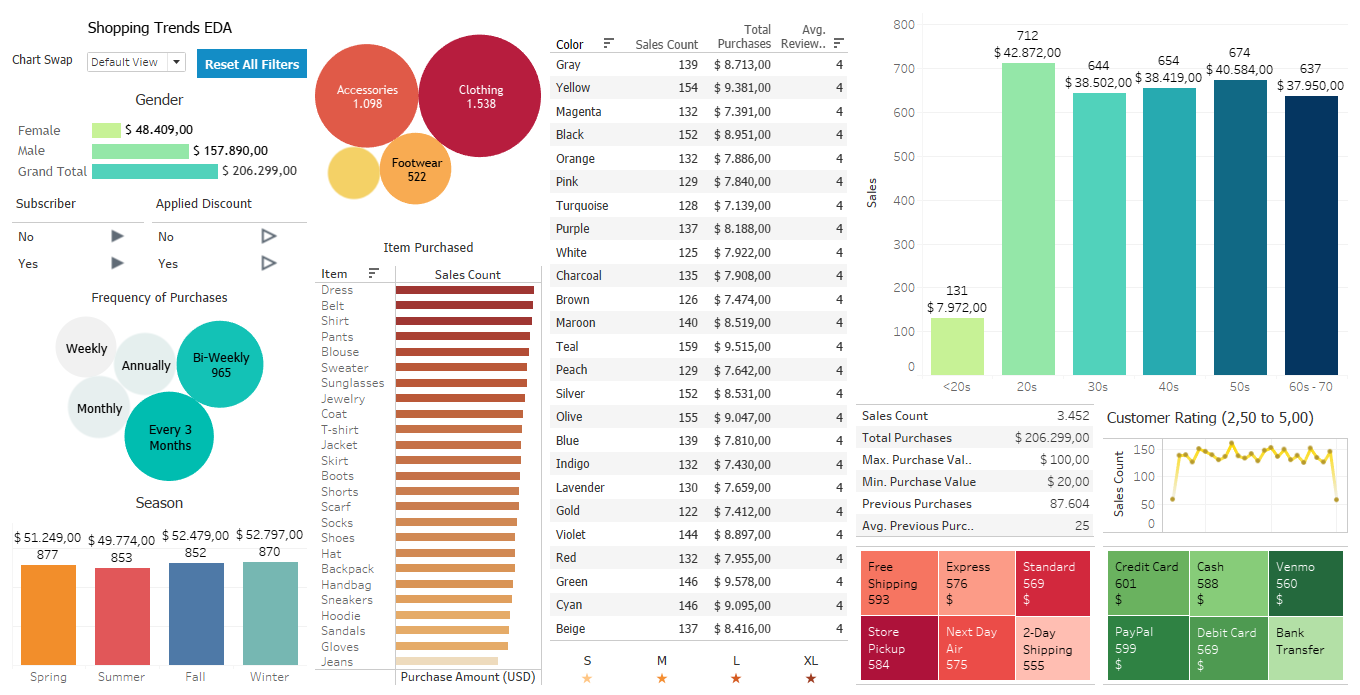

The dashboard page shown, as its layout file describes it:
{"tool":"tableau","page":{"name":"Painel 1","canvas":[1000,1000],"units":"permille","ordinal":0},"visuals":[{"type":"worksheet","title":"Reset (2)","mark":"Automatic","box":[6,13.5,222.7,52.5]},{"type":"worksheet","title":"Chart 1 (4)","mark":"Circle","box":[228.7,13.5,172.7,318.4]},{"type":"worksheet","title":"Chart 1 (15)","mark":"Automatic","rows":["Color"],"box":[401.4,13.5,225.1,904.3]},{"type":"worksheet","title":"Sheet 9","mark":"Multipolygon","cols":["Color (copy)_461337521497296899"],"box":[626.5,13.5,367.5,1.7]},{"type":"worksheet","title":"Chart 1 (2)","mark":"Automatic","rows":["Customer ID"],"cols":["Age_Clusters"],"box":[626.5,15.2,367.5,558.1]},{"type":"parameter","param":"[Parameters].[Parameter 1]","box":[6,66,135.9,53.5]},{"type":"worksheet","title":"Reset","mark":"Automatic","box":[141.9,66,86.8,53.5]},{"type":"worksheet","title":"Chart 1 (10)","mark":"Automatic","rows":["Color (copy)_461337521497296899","Gender"],"cols":["Customer ID"],"box":[6,119.5,222.7,148.9]},{"type":"worksheet","title":"Chart 1 (9)","mark":"Shape","rows":["Subscription Status"],"box":[6,268.4,102.7,135.2]},{"type":"worksheet","title":"Chart 1 (12)","mark":"Shape","rows":["Discount Applied"],"box":[108.7,268.4,120,135.2]},{"type":"worksheet","title":"Chart 1 (5)","mark":"Circle","rows":["Color (copy)_461337521497296899","Item Purchased"],"cols":["Purchase Amount (USD)","Customer ID"],"box":[228.7,331.9,172.7,654.6]},{"type":"worksheet","title":"Chart 1 (1)","mark":"Circle","box":[6,403.6,222.7,344.6]},{"type":"worksheet","title":"Chart 1 (17)","mark":"Automatic","box":[626.5,573.3,181.7,201.5]},{"type":"worksheet","title":"Chart 1 (19)","mark":"Automatic","rows":["Customer ID","Customer ID"],"cols":["Color (copy)_461337521497296899","Review Rating"],"box":[808.1,573.3,185.9,201.5]},{"type":"worksheet","title":"Chart 1 (3)","mark":"Automatic","rows":["Purchase Amount (USD)"],"cols":["Season"],"box":[6,748.2,222.7,238.3]},{"type":"worksheet","title":"Chart 1 (18)","mark":"Automatic","cols":["Color (copy)_461337521497296899"],"box":[626.5,774.9,181.7,211.6]},{"type":"worksheet","title":"Chart 1 (16)","mark":"Automatic","cols":["Color (copy)_461337521497296899"],"box":[808.1,774.9,185.9,211.6]},{"type":"worksheet","title":"Size","mark":"Shape","cols":["Size"],"box":[401.4,917.8,225.1,68.6]}]}

Visuals, with their boxes on the dashboard's canvas, which has no fixed pixel size, in thousandths of its width and height (x1, y1, x2, y2). These are canvas units, not pixel positions in the 1360x695 screenshot, which may show the page scaled, cropped or inside an application window:
"Reset (2)" worksheet: locate(6, 14, 229, 66)
"Chart 1 (4)" worksheet (Circle marks): locate(229, 14, 401, 332)
"Chart 1 (15)" worksheet: locate(401, 14, 626, 918)
"Sheet 9" worksheet (Multipolygon marks): locate(626, 14, 994, 15)
"Chart 1 (2)" worksheet: locate(626, 15, 994, 573)
parameter: locate(6, 66, 142, 120)
"Reset" worksheet: locate(142, 66, 229, 120)
"Chart 1 (10)" worksheet: locate(6, 120, 229, 268)
"Chart 1 (9)" worksheet (Shape marks): locate(6, 268, 109, 404)
"Chart 1 (12)" worksheet (Shape marks): locate(109, 268, 229, 404)
"Chart 1 (5)" worksheet (Circle marks): locate(229, 332, 401, 986)
"Chart 1 (1)" worksheet (Circle marks): locate(6, 404, 229, 748)
"Chart 1 (17)" worksheet: locate(626, 573, 808, 775)
"Chart 1 (19)" worksheet: locate(808, 573, 994, 775)
"Chart 1 (3)" worksheet: locate(6, 748, 229, 986)
"Chart 1 (18)" worksheet: locate(626, 775, 808, 986)
"Chart 1 (16)" worksheet: locate(808, 775, 994, 986)
"Size" worksheet (Shape marks): locate(401, 918, 626, 986)
